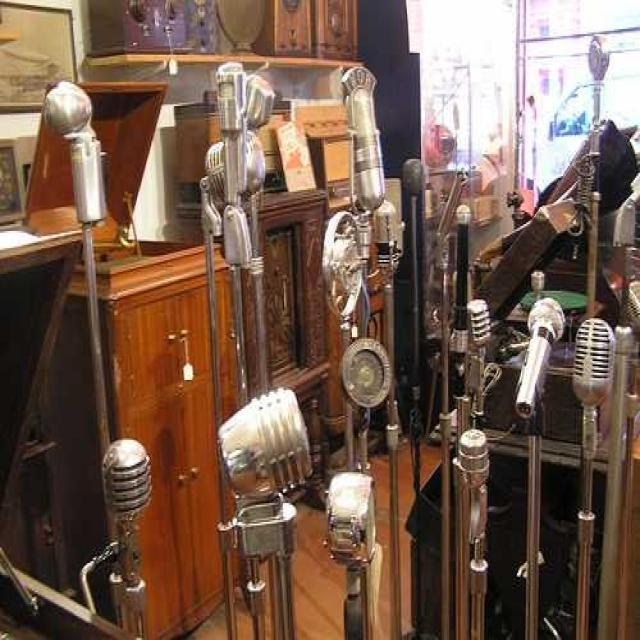microphone: (217, 392, 309, 637), (510, 306, 564, 633), (569, 323, 615, 634), (323, 214, 367, 463), (42, 80, 108, 229), (324, 472, 381, 638), (216, 63, 274, 212), (103, 438, 152, 602), (452, 431, 488, 637), (222, 202, 256, 404), (342, 66, 386, 213), (218, 396, 277, 496), (516, 298, 565, 418), (402, 160, 424, 412), (572, 318, 615, 415), (465, 296, 498, 411), (564, 156, 592, 284), (610, 320, 636, 449), (452, 207, 471, 344), (450, 296, 470, 423), (374, 202, 402, 282), (216, 61, 244, 135), (613, 175, 639, 249), (244, 74, 276, 129), (528, 297, 566, 343), (205, 141, 227, 217), (457, 429, 488, 478), (340, 65, 376, 102), (574, 156, 596, 214), (619, 277, 640, 333), (588, 34, 610, 81), (402, 157, 426, 195), (466, 164, 482, 197), (454, 203, 472, 224), (506, 189, 523, 209), (531, 270, 545, 291)
